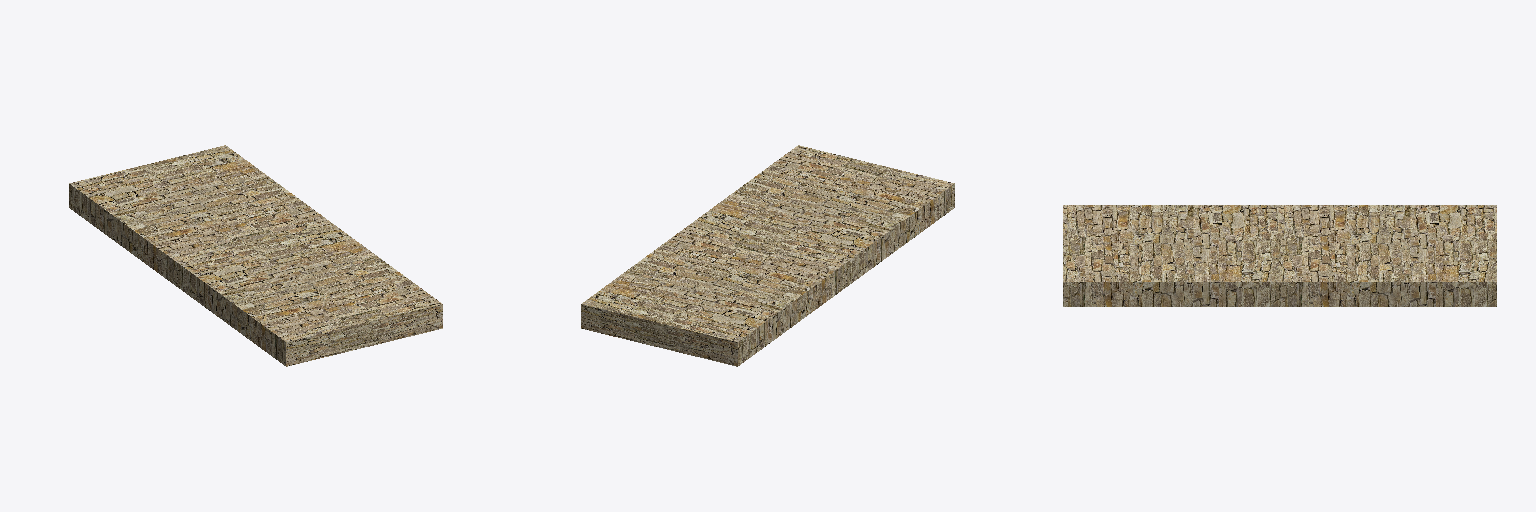
The picture shows the model from 3 angles: view 1: azimuth 30°, elevation 25°; view 2: azimuth 150°, elevation 25°; view 3: azimuth 270°, elevation 25°; orthographic projection.
Parts seen in each view (by area): view 1: Box099_Mesh.018; view 2: Box099_Mesh.018; view 3: Box099_Mesh.018.
Boxes of the visible parts, box(x1,y1,x2,y2) form: Box099_Mesh.018: box(69, 145, 442, 366); Box099_Mesh.018: box(581, 145, 954, 366); Box099_Mesh.018: box(1063, 205, 1496, 306).
Size of the model in its own units: 1 by 0.15 by 2.4.
1 materials, 1 textured.